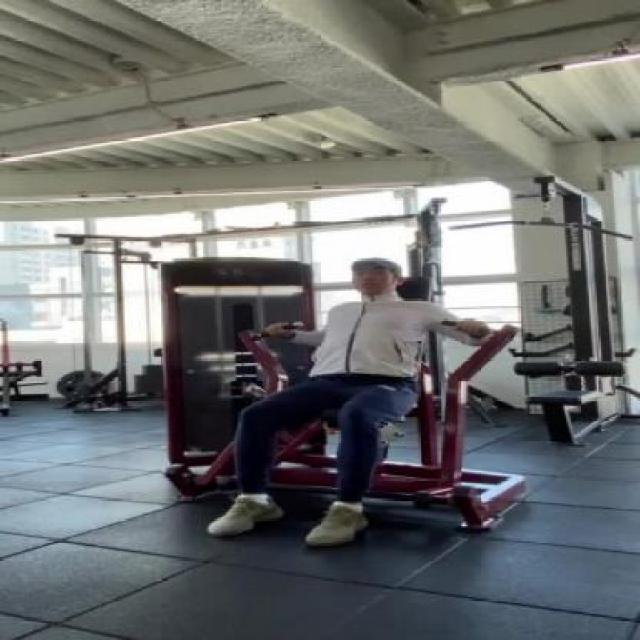Chest Press machine: (97, 206, 565, 543)
